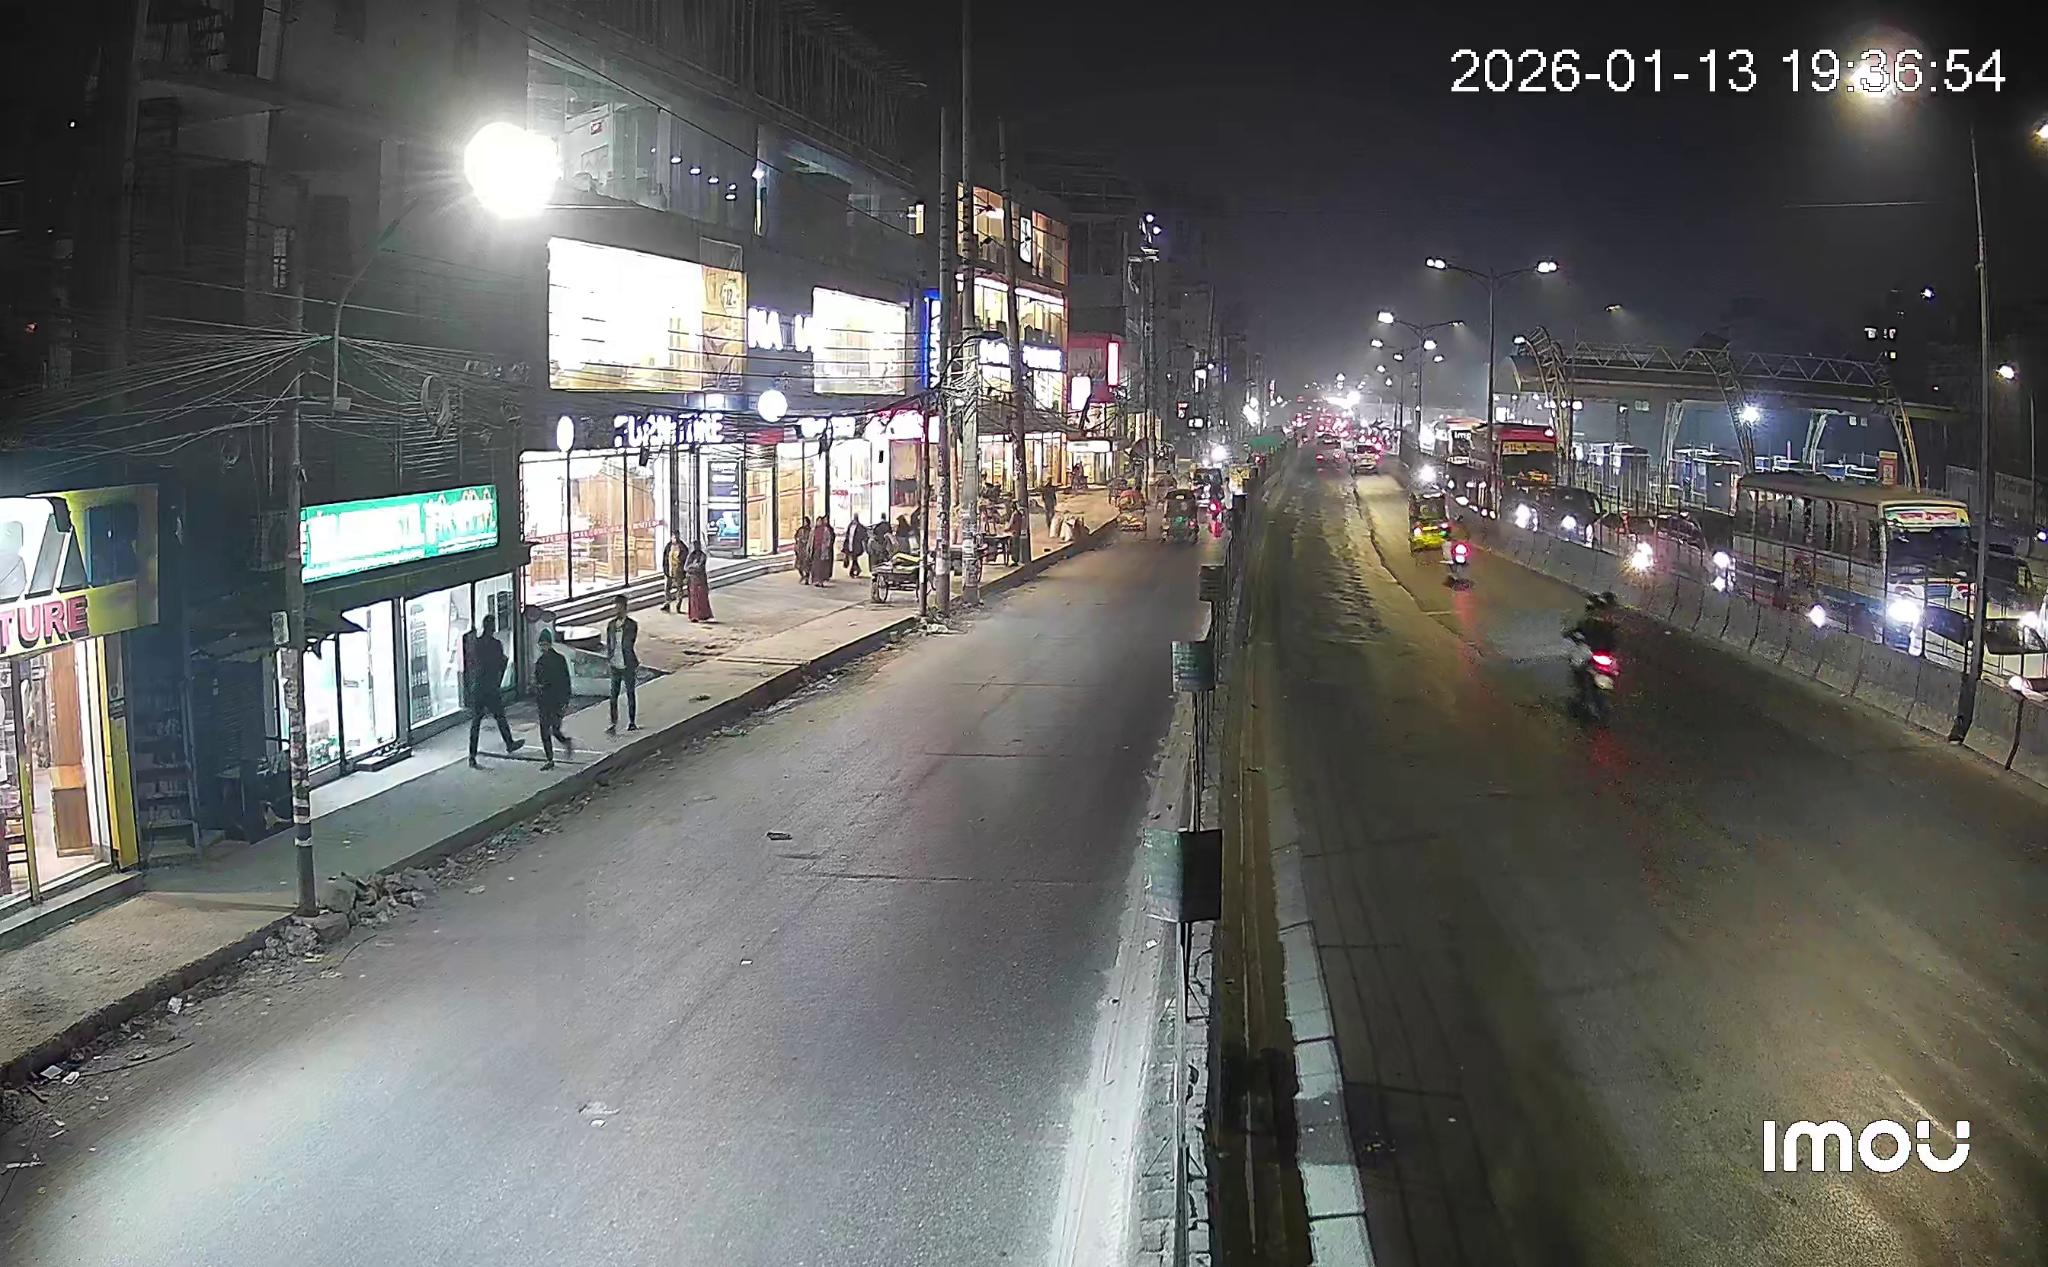Bus: (1706, 473, 1976, 655)
Motorcycle: (1565, 594, 1618, 721), (1442, 524, 1470, 588)
